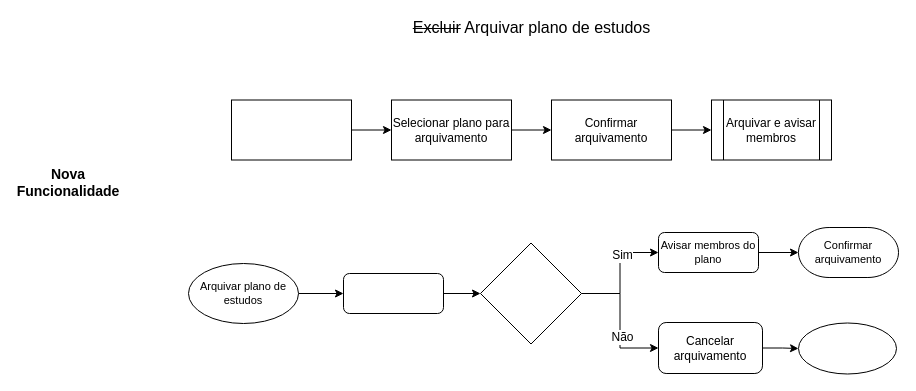
Image size: 916x391. Some labels were removed from this diagram. The box of each missing label's shape, as (x1, y1, x2, y2) in pixels:
Buscar plano de estudos: (230, 99, 352, 160)
Confirma arquivar?: (480, 242, 582, 344)
Procurar plano: (342, 272, 444, 314)
Voltar na visão geral: (798, 322, 896, 374)
